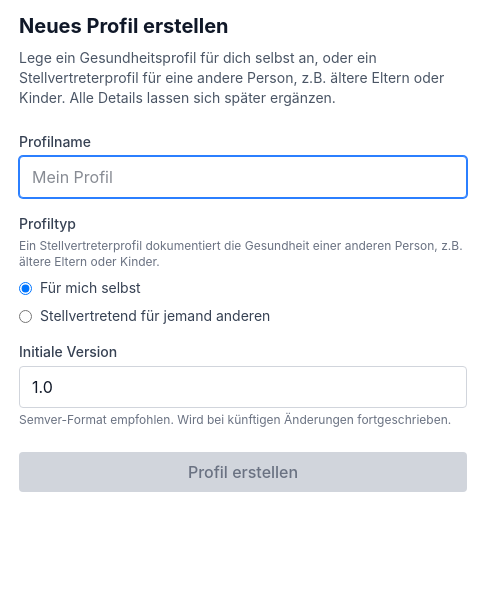
it: ProfileCreateForm › submit is disabled when proxy but managedBy is empty
The image size is (485, 611).
Type "Test" into the field labelled "Profilname". click: (243, 177)
box: [19, 156, 467, 198]
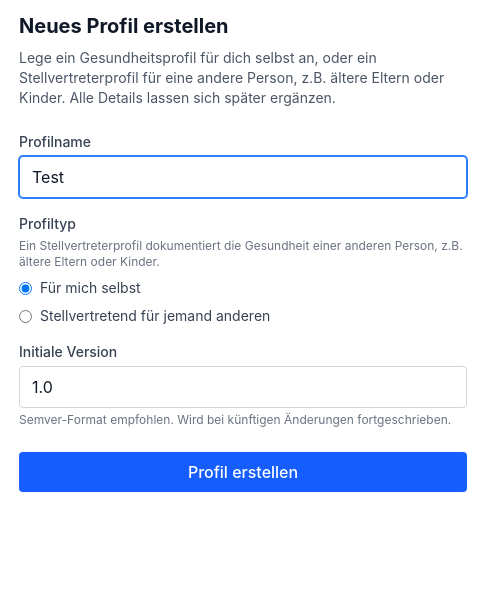
Click the text "Stellvertretend für jemand anderen". click: (145, 316)
box: [19, 307, 270, 324]
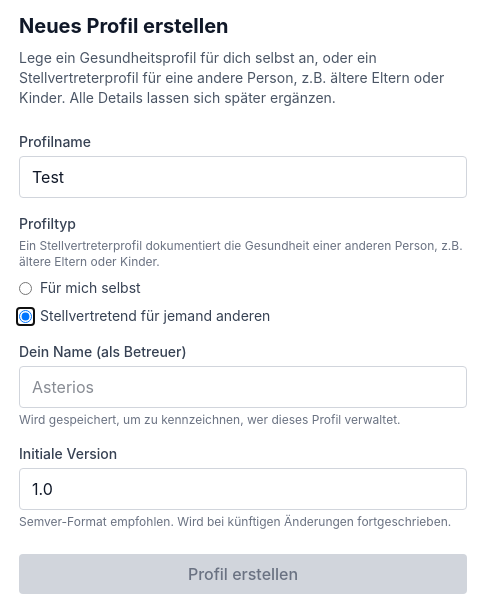
Expected: the button "Profil erstellen" is disabled, [19, 554, 467, 594]
